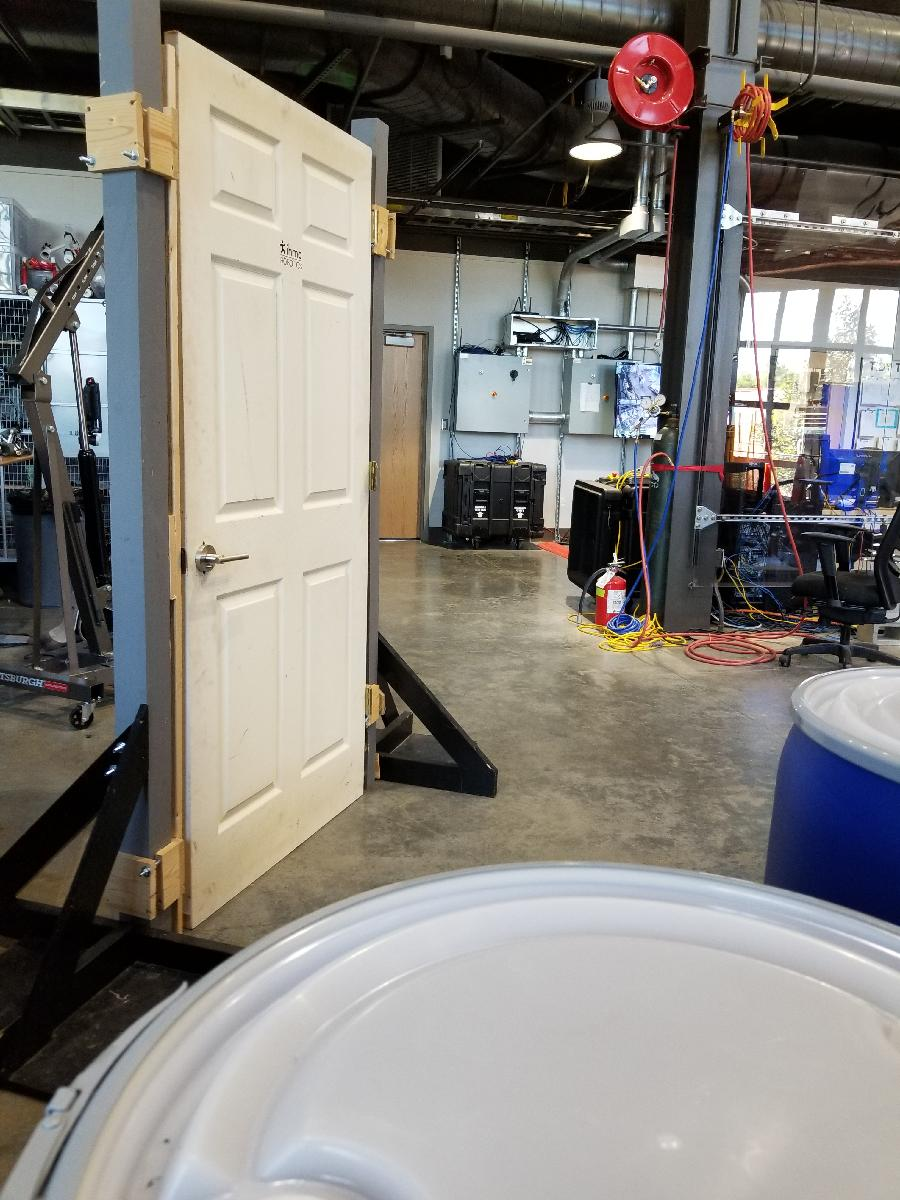door: (159, 28, 382, 935)
doorHandle: (191, 540, 254, 584)
